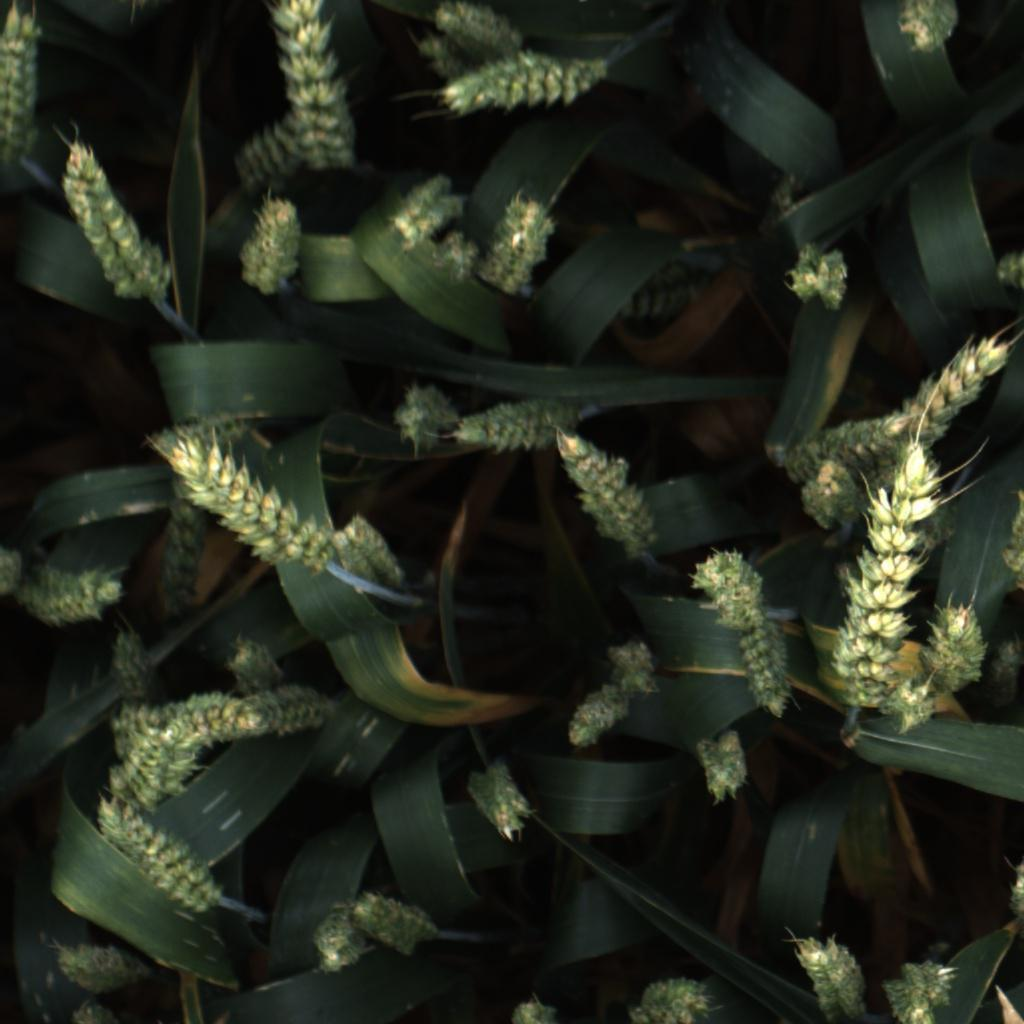0-0: (834, 446, 949, 705), (149, 437, 330, 573), (270, 0, 378, 184), (59, 134, 166, 301), (886, 325, 1010, 469), (88, 797, 219, 918), (434, 47, 609, 129), (545, 428, 663, 547), (101, 684, 245, 755), (445, 392, 587, 462), (149, 460, 210, 620), (473, 188, 564, 294), (613, 243, 726, 327), (775, 406, 902, 473), (104, 718, 201, 804), (15, 558, 127, 631), (787, 931, 875, 1023), (0, 0, 50, 153), (730, 617, 805, 717), (238, 200, 310, 300), (230, 677, 345, 739), (328, 506, 407, 596), (41, 931, 152, 995), (137, 404, 261, 461), (352, 880, 441, 958), (222, 112, 307, 190), (694, 530, 763, 624), (382, 170, 461, 248), (458, 763, 536, 841), (780, 236, 853, 319), (922, 600, 989, 690), (298, 893, 369, 977), (415, 228, 491, 304), (879, 952, 958, 1024), (685, 731, 760, 806), (389, 374, 459, 453), (796, 458, 863, 533), (420, 0, 522, 48), (560, 683, 633, 750), (101, 610, 153, 702), (625, 971, 713, 1024), (218, 628, 291, 689), (601, 632, 672, 693), (891, 0, 963, 58), (876, 676, 940, 738), (982, 631, 1024, 716)
